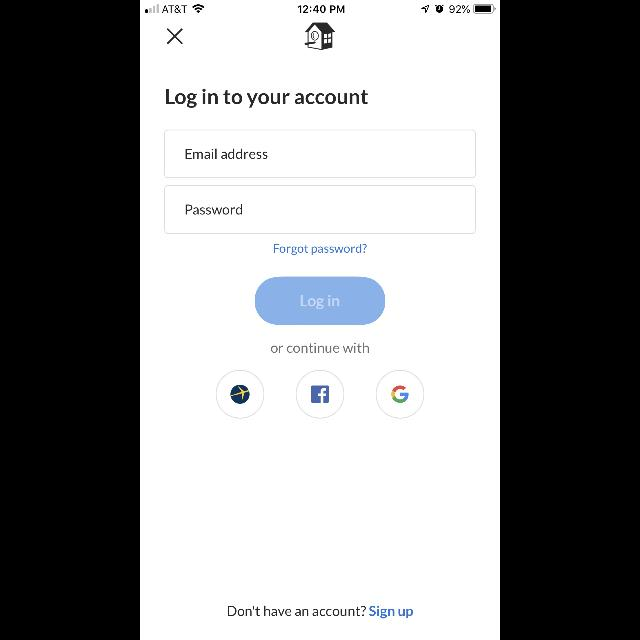icon: (296, 369, 344, 418), (376, 369, 424, 418), (304, 22, 336, 50), (167, 29, 183, 45)
image: (216, 369, 264, 418)
input: (164, 186, 476, 234), (164, 130, 476, 178)
text: (166, 90, 368, 108), (228, 606, 414, 618), (274, 244, 366, 256), (271, 342, 369, 353), (186, 148, 268, 160), (185, 205, 242, 215)
textbutton: (255, 277, 385, 325)
uppertaskbar: (140, 0, 500, 14)
